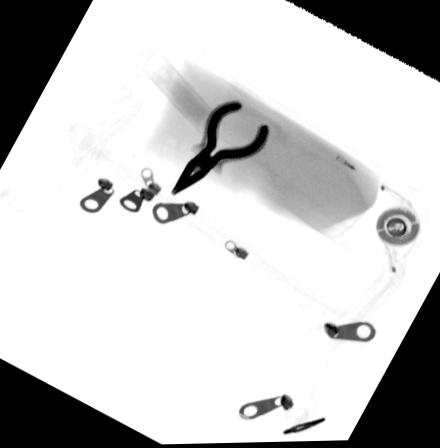Pliers: (169, 99, 270, 196)
